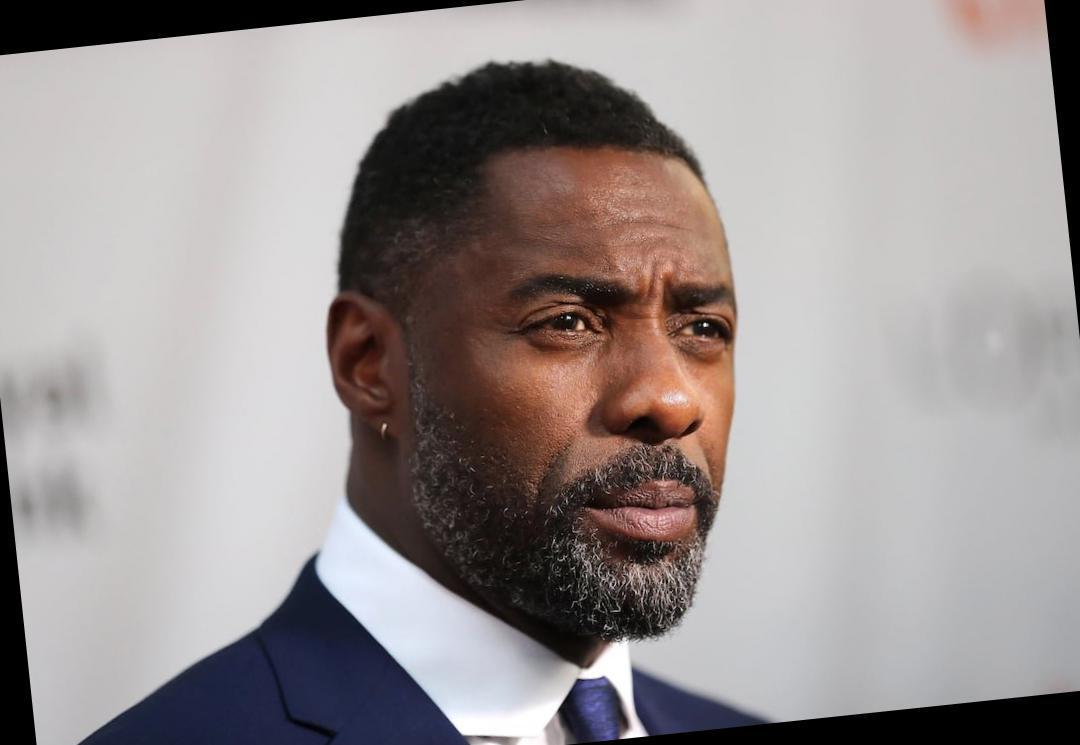Sober: (417, 184, 732, 621)
